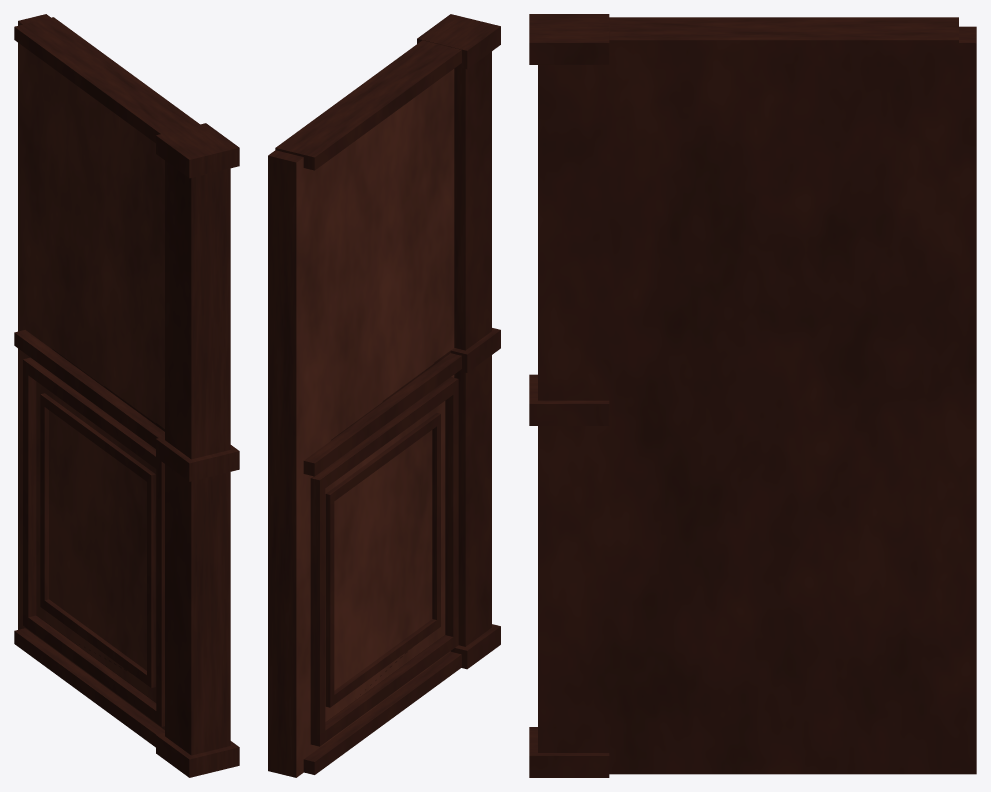
Rendered from rightWallSingle.glb.
3 views of the same model, side by side, from view 1: azimuth 30°, elevation 25°; view 2: azimuth 150°, elevation 25°; view 3: azimuth 270°, elevation 25° (orthographic). The views are drawn at different scales.
Parts seen in each view (by area): view 1: rightWallSingle_V5_TEMP; view 2: rightWallSingle_V5_TEMP; view 3: rightWallSingle_V5_TEMP.
Boxes of the visible parts, left/top/right/bottom form: rightWallSingle_V5_TEMP: left=14, top=14, right=239, bottom=777; rightWallSingle_V5_TEMP: left=268, top=14, right=500, bottom=777; rightWallSingle_V5_TEMP: left=529, top=14, right=976, bottom=777.
Size of the model in its own units: 2.36 by 27.8 by 15.33.
Materials: 1 (1 with a texture image).
